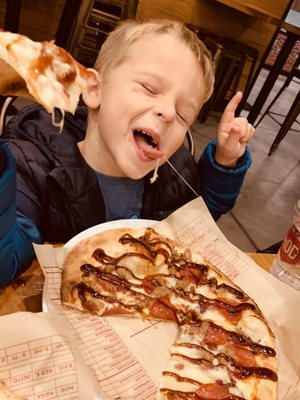pizza: (271, 196, 300, 292)
